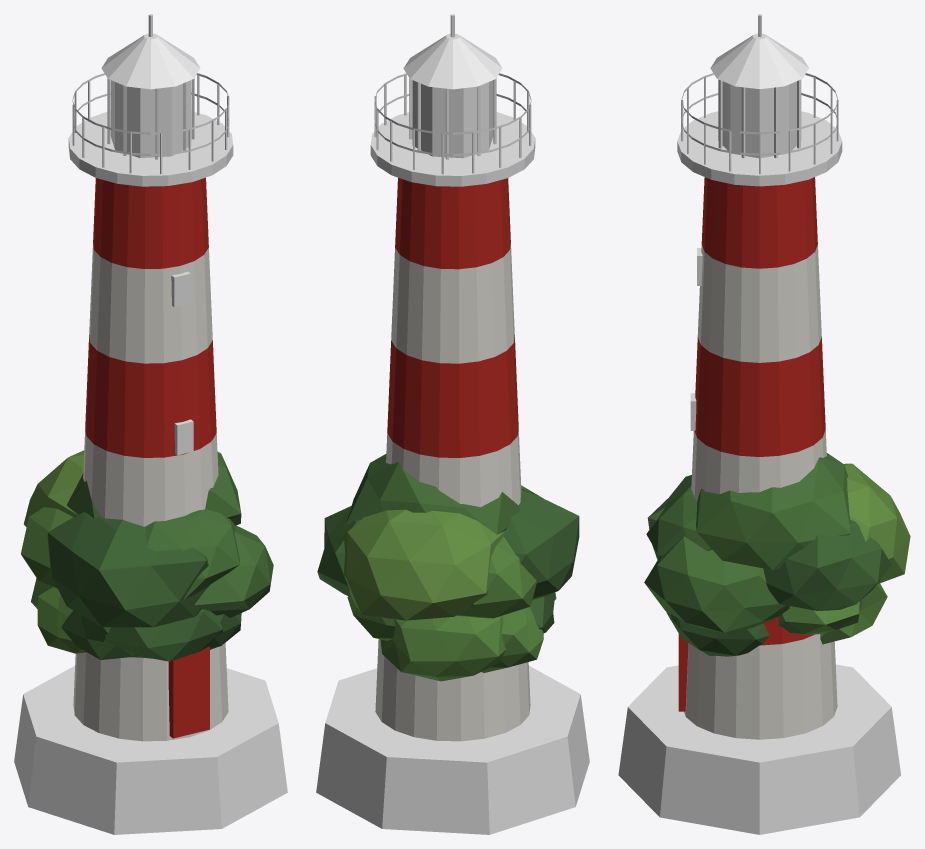
Rendered from vegetacao-BmdvTOEe.glb.
3 renders of one model, left to right at view 1: azimuth 30°, elevation 25°; view 2: azimuth 150°, elevation 25°; view 3: azimuth 270°, elevation 25°, orthographic.
Visible parts, largest first — view 1: farol, arvore_b, arvore_a; view 2: farol, arvore_b, arvore_a; view 3: farol, arvore_b, arvore_a.
Boxes of the visible parts, x1,y1,x2,y2 form: farol: (14,14,287,834); arvore_b: (21,450,273,627); arvore_a: (31,578,241,661); farol: (316,14,589,834); arvore_b: (317,454,579,620); arvore_a: (347,592,556,681); farol: (618,14,900,834); arvore_b: (644,453,910,632); arvore_a: (666,583,887,656).
Size of what is drawn, in the model's own units: 6 by 17.8 by 6.2.
